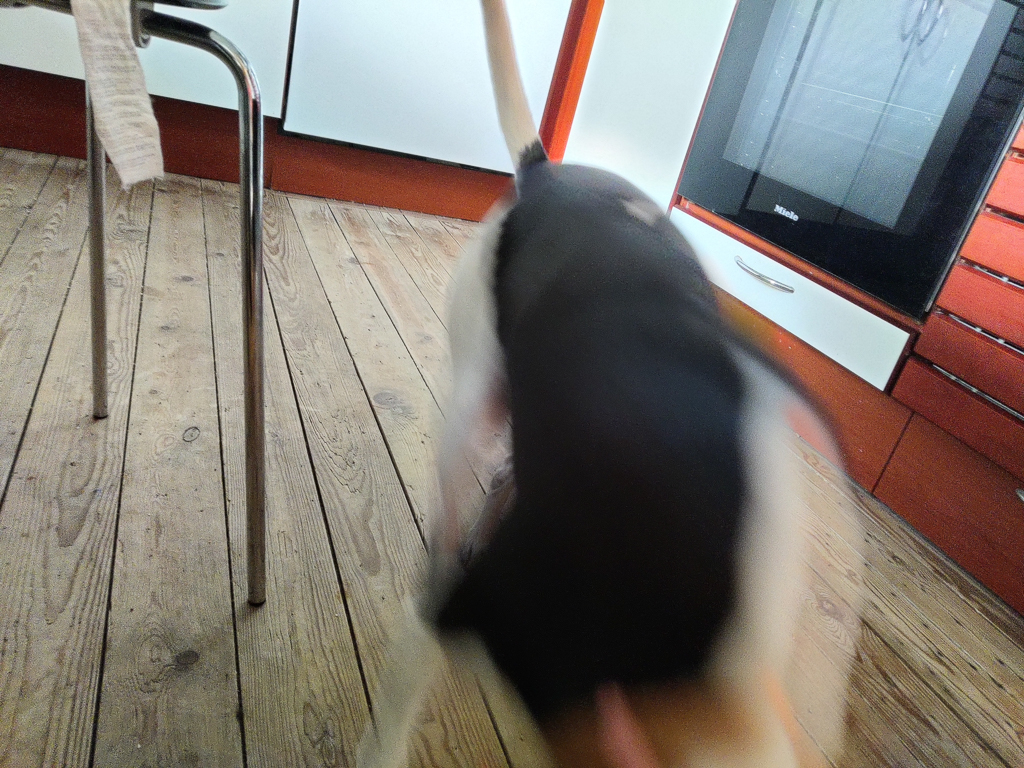Dog: (321, 0, 873, 768)
